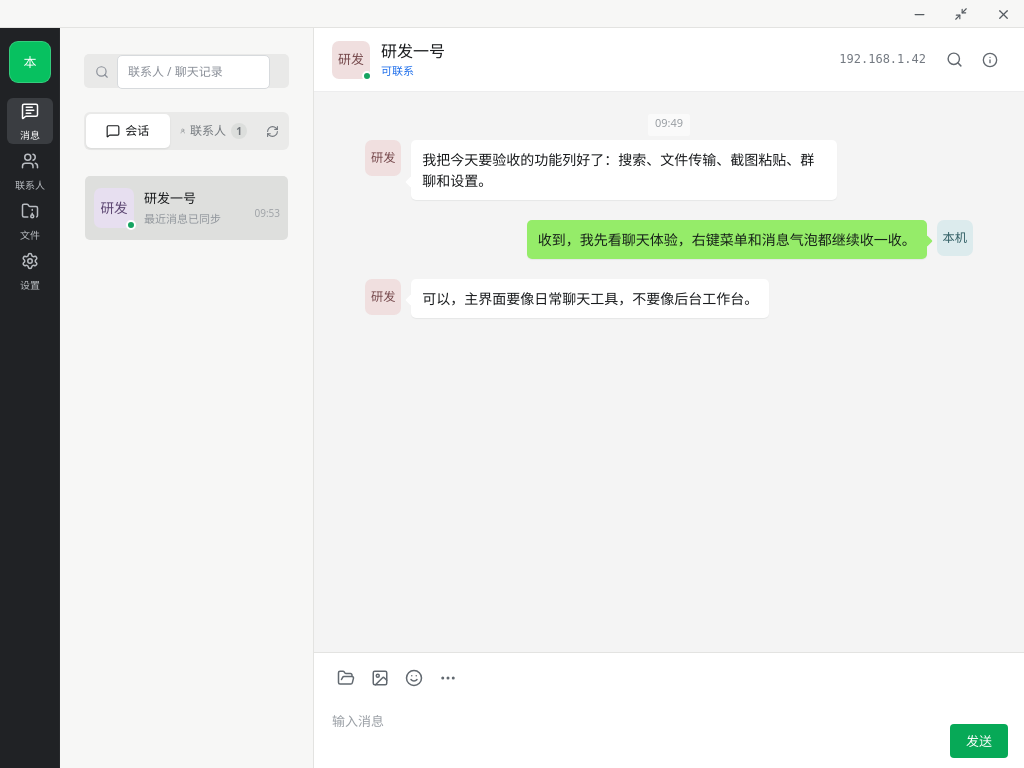
Test: App › locks the app, shows progress, migrates storage, and restarts
The image size is (1024, 768).
Click the button titled "设置". click: click(30, 271)
box: [7, 248, 53, 294]
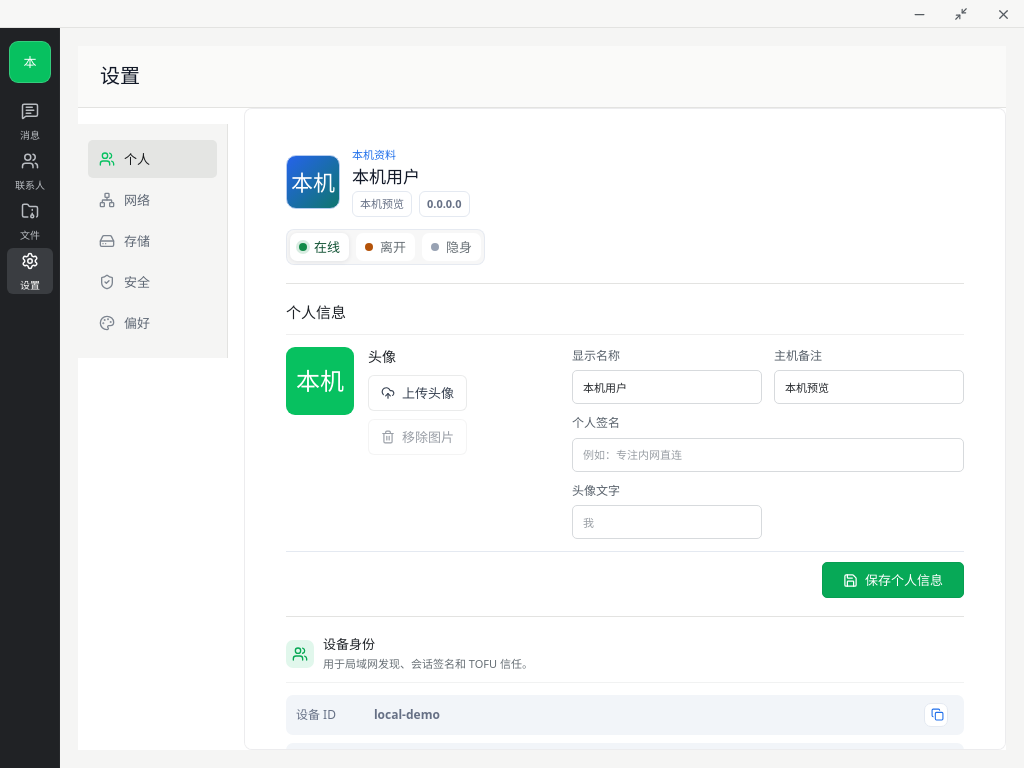
Click the button "存储". click: click(152, 241)
box: [88, 222, 217, 260]
(page scrolled)
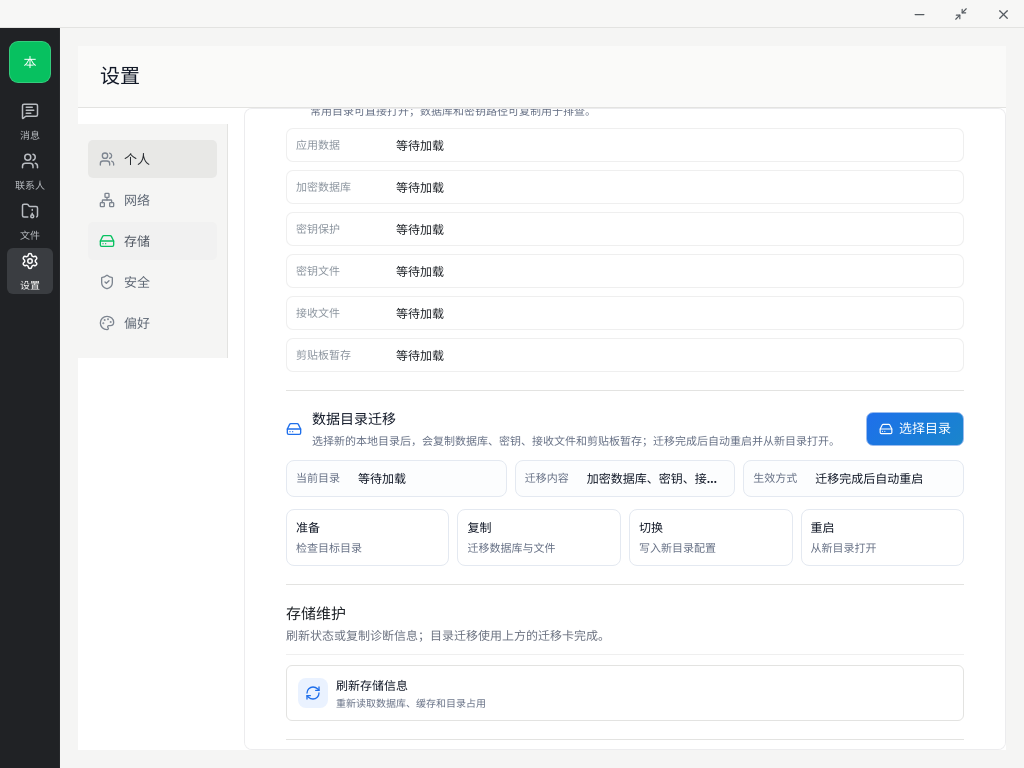
Click the button with aria-label "选择新的数据目录". click: click(915, 429)
box: [866, 412, 964, 446]
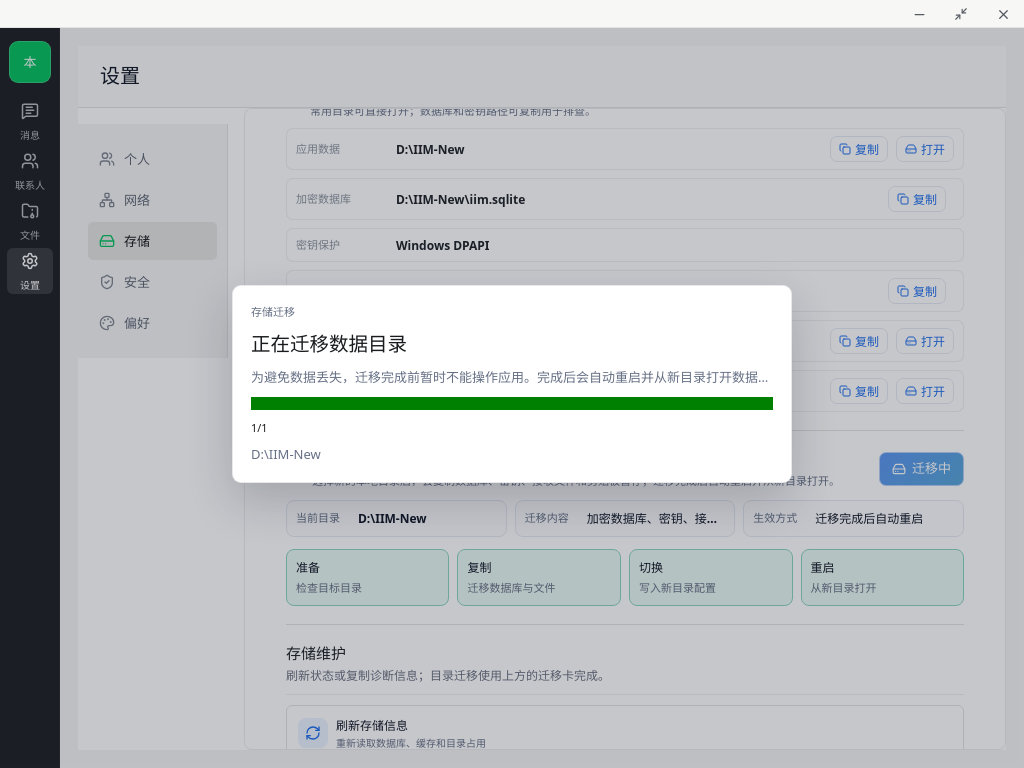
Check: the text "为避免数据丢失，迁移完成前暂时不能操作应用。完成后会自动重启并从新目录打开数据库。" is shown, box [251, 368, 773, 387]
Check: the button with aria-label "正在迁移数据目录" is disabled, box [879, 452, 964, 486]
Check: the text "2/4" is shown, box [251, 420, 267, 435]
